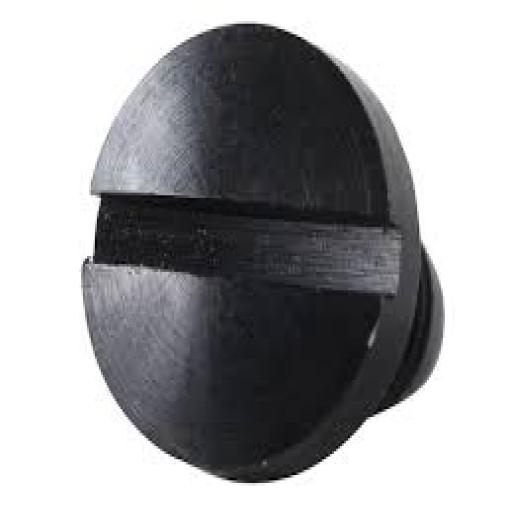Slotted: (76, 24, 418, 486)
